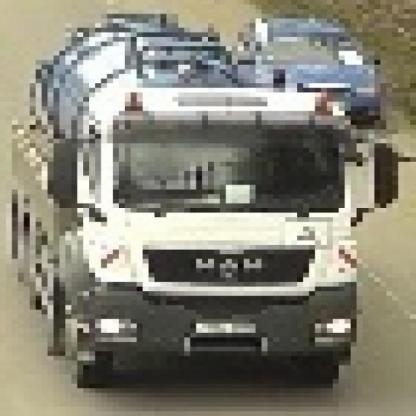truck: (1, 6, 393, 385)
